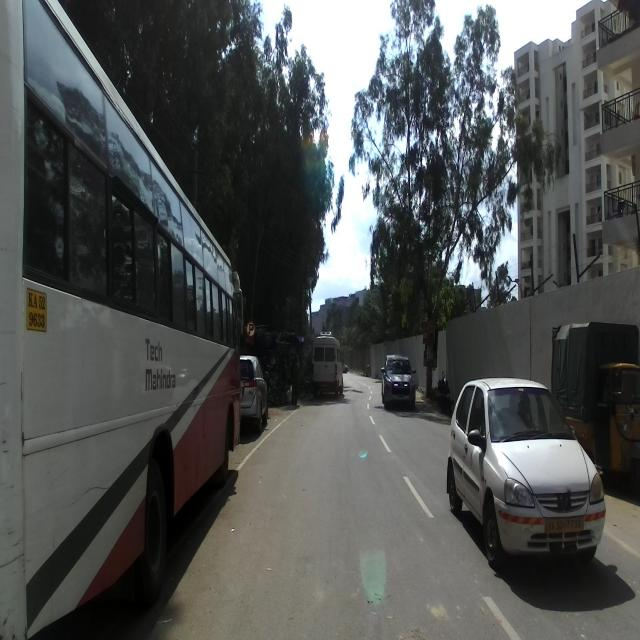Car_TATA: (447, 371, 607, 574)
Car_Toyota: (380, 352, 418, 411)
autorickshaw: (550, 320, 640, 498)
bus: (0, 1, 244, 638)
